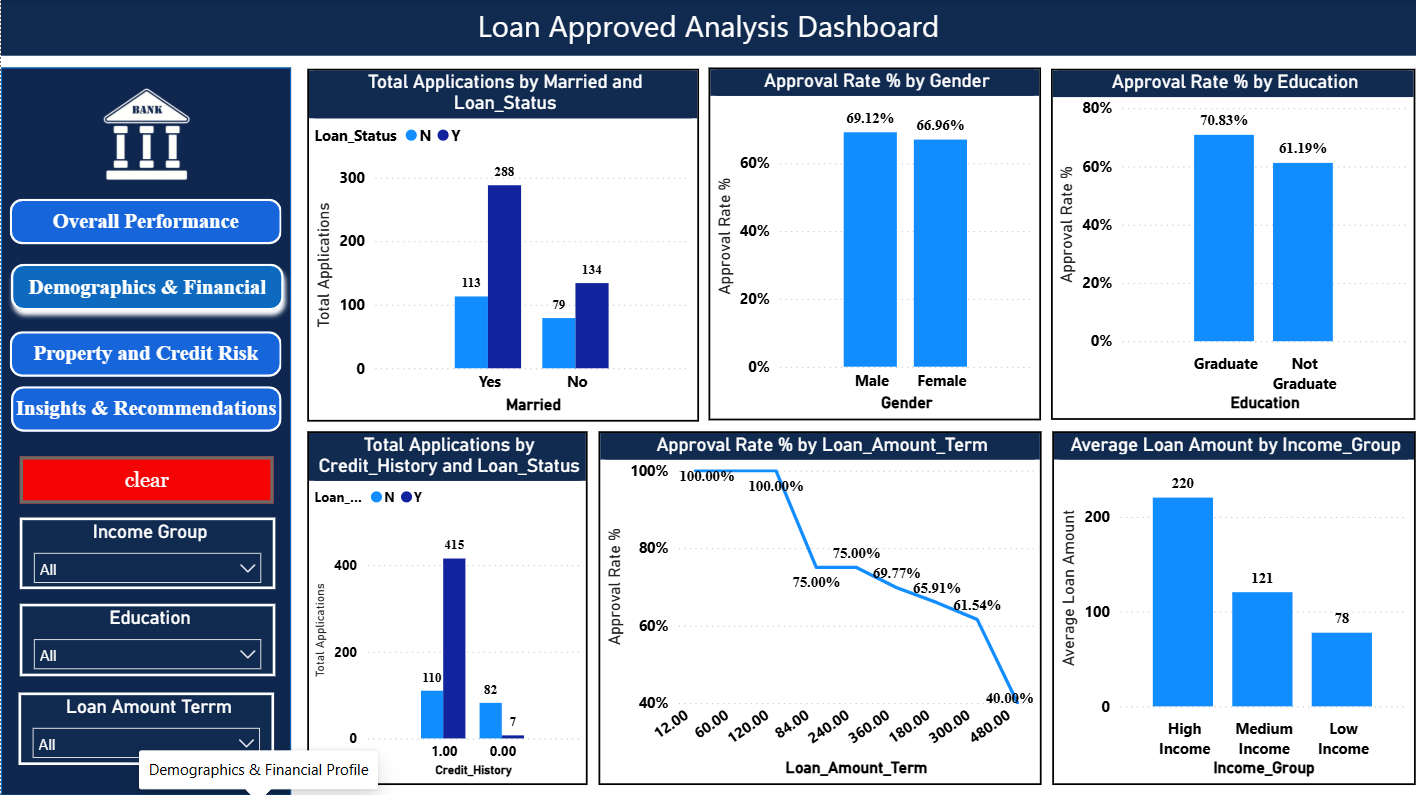

This screenshot's page, from the dashboard's own definition file:
{"tool":"powerbi","page":{"name":" Demographics & Financial Profile","canvas":[1280,720],"ordinal":1},"visuals":[{"type":"clusteredColumnChart","fields":{"Y":["l_approved.Total Applications"],"Category":["l_approved.Married"],"Series":["l_approved.Loan_Status"]},"box":[277.4,61.9,354.8,319],"z":0},{"type":"clusteredColumnChart","fields":{"Category":["l_approved.Education"],"Y":["l_approved.Approval Rate %"]},"box":[950,61.9,329.8,317.9],"z":1000},{"type":"clusteredColumnChart","fields":{"Category":["l_approved.Credit_History"],"Y":["l_approved.Total Applications"],"Series":["l_approved.Loan_Status"]},"box":[277.4,390.5,253.6,320.2],"z":2000},{"type":"lineChart","fields":{"Category":["l_approved.Loan_Amount_Term"],"Y":["l_approved.Approval Rate %"]},"box":[540.5,390.5,401.2,320.2],"z":3000},{"type":"clusteredColumnChart","fields":{"Category":["l_approved.Income_Group"],"Y":["l_approved.Average Loan Amount"]},"box":[951.2,390.5,328.6,320.2],"z":4000},{"type":"clusteredColumnChart","fields":{"Category":["l_approved.Gender"],"Y":["l_approved.Approval Rate %"]},"box":[640.5,60.7,301.2,319],"z":5000},{"type":"shape","box":[0,61.2,262.5,658.8],"z":6000},{"type":"actionButton","box":[8,179.5,246,41.2],"z":7000},{"type":"actionButton","box":[0,229.9,264.6,60],"z":8000},{"type":"actionButton","box":[8,299.2,246,41.2],"z":9000},{"type":"slicer","title":"Income Group","fields":{"Values":["l_approved.Income_Group"]},"box":[16.7,468,231,65],"z":10000},{"type":"slicer","title":"Education","fields":{"Values":["l_approved.Education"]},"box":[16.7,546.6,231,65.5],"z":11000},{"type":"slicer","title":"Loan Amount Terrm","fields":{"Values":["l_approved.Loan_Amount_Term"]},"box":[15.5,626.3,231,65.5],"z":12000},{"type":"actionButton","box":[16.7,413.1,229.8,42.9],"z":13000},{"type":"textbox","box":[0,0,1280,50],"z":14000},{"type":"actionButton","box":[9.3,349.6,244.6,41.2],"z":15000},{"type":"image","box":[65.1,75.8,132.9,94.4],"z":16000}]}

Visuals, with their boxes in screenshot pixels (x1, y1, x2, y2), scaled from the page's 1280x720 canvas onto the 1416x795 screenshot:
clusteredColumnChart - l_approved.Total Applications x l_approved.Married: {"x1": 307, "y1": 68, "x2": 699, "y2": 421}
clusteredColumnChart - l_approved.Education x l_approved.Approval Rate %: {"x1": 1051, "y1": 68, "x2": 1415, "y2": 419}
clusteredColumnChart - l_approved.Credit_History x l_approved.Total Applications: {"x1": 307, "y1": 431, "x2": 587, "y2": 785}
lineChart - l_approved.Loan_Amount_Term x l_approved.Approval Rate %: {"x1": 598, "y1": 431, "x2": 1042, "y2": 785}
clusteredColumnChart - l_approved.Income_Group x l_approved.Average Loan Amount: {"x1": 1052, "y1": 431, "x2": 1415, "y2": 785}
clusteredColumnChart - l_approved.Gender x l_approved.Approval Rate %: {"x1": 709, "y1": 67, "x2": 1042, "y2": 419}
shape: {"x1": 0, "y1": 68, "x2": 290, "y2": 794}
actionButton: {"x1": 9, "y1": 198, "x2": 281, "y2": 244}
actionButton: {"x1": 0, "y1": 254, "x2": 293, "y2": 320}
actionButton: {"x1": 9, "y1": 330, "x2": 281, "y2": 376}
"Income Group" slicer: {"x1": 18, "y1": 517, "x2": 274, "y2": 589}
"Education" slicer: {"x1": 18, "y1": 604, "x2": 274, "y2": 676}
"Loan Amount Terrm" slicer: {"x1": 17, "y1": 692, "x2": 273, "y2": 764}
actionButton: {"x1": 18, "y1": 456, "x2": 273, "y2": 504}
textbox: {"x1": 0, "y1": 0, "x2": 1415, "y2": 55}
actionButton: {"x1": 10, "y1": 386, "x2": 281, "y2": 432}
image: {"x1": 72, "y1": 84, "x2": 219, "y2": 188}
